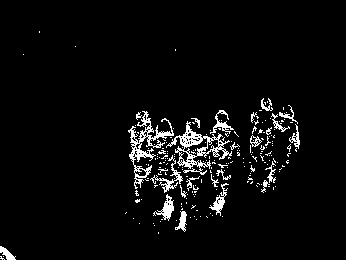person: (176, 115, 209, 235), (208, 110, 240, 218), (268, 103, 301, 198), (153, 116, 182, 221), (128, 110, 156, 205), (250, 95, 273, 186)
